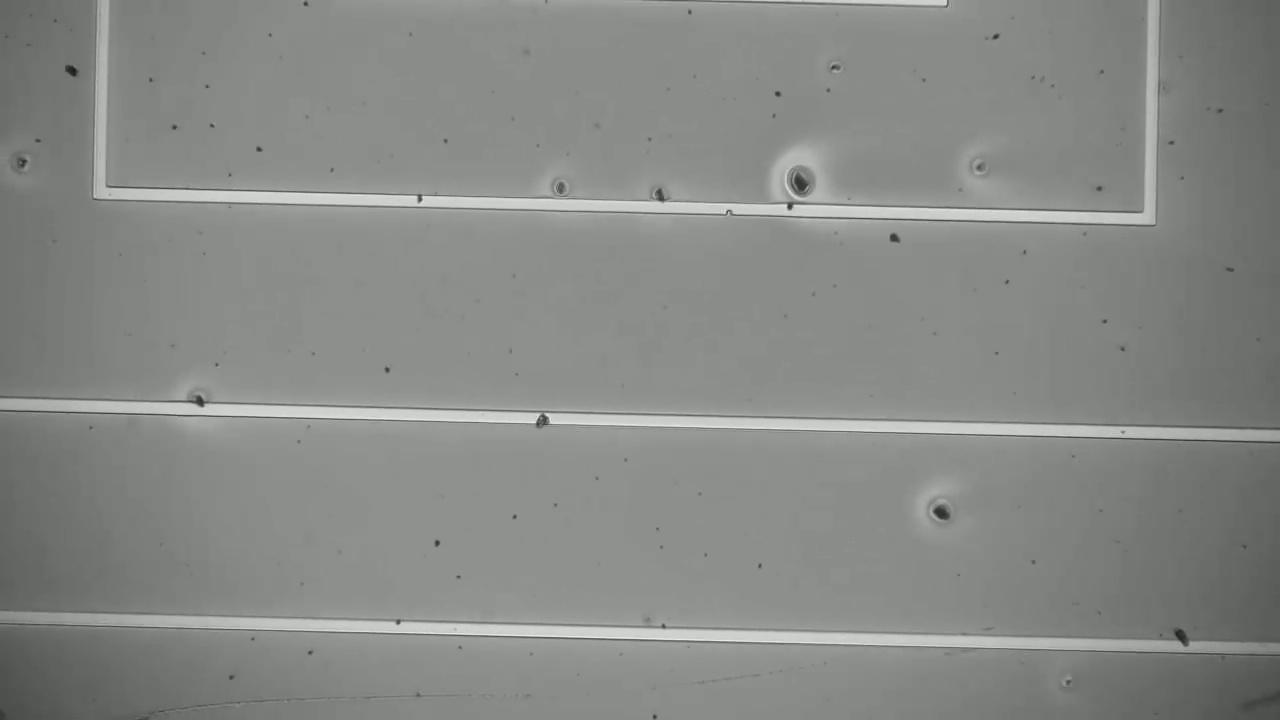edge_bite: (718, 195, 739, 225)
stains_enbedded: (181, 384, 215, 425), (1167, 626, 1197, 662), (529, 403, 555, 435), (780, 199, 800, 225), (412, 189, 426, 215)
